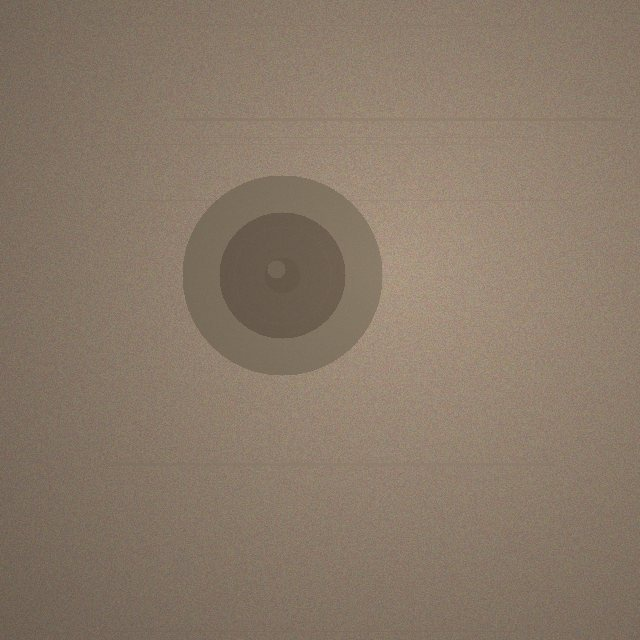good: (182, 175, 382, 375)
